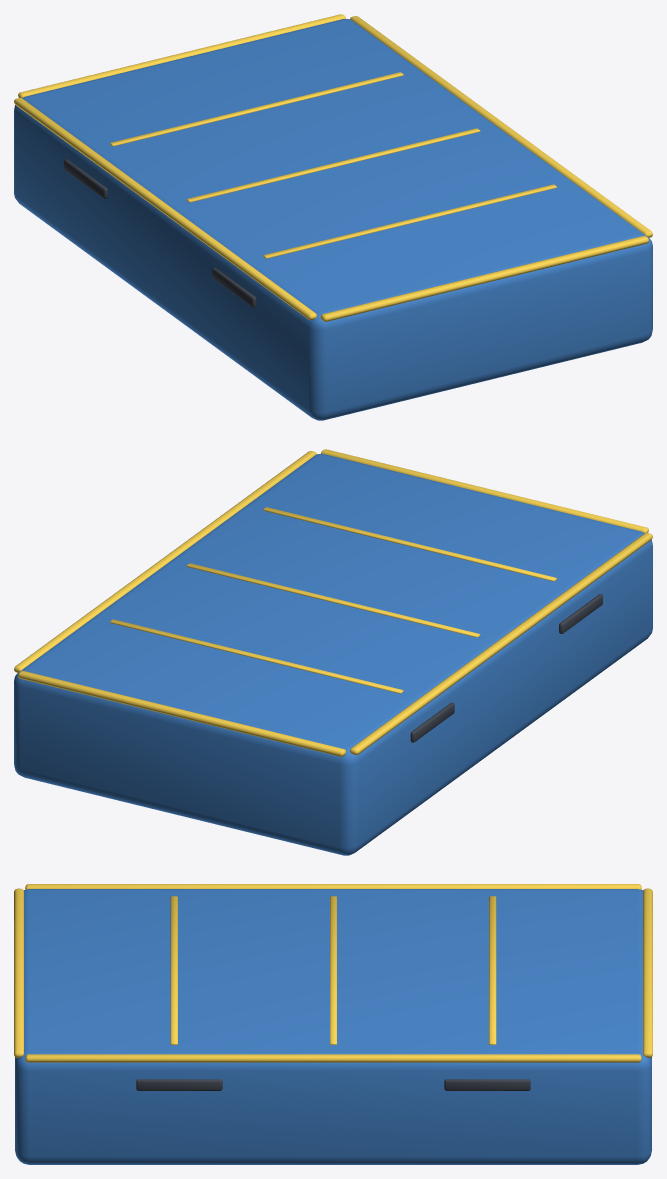
Rendered from slide-landing-mat.glb.
3 views of the same model, one above another, from view 1: azimuth 30°, elevation 25°; view 2: azimuth 150°, elevation 25°; view 3: azimuth 270°, elevation 25° (orthographic). The views are drawn at different scales.
Parts seen in each view (by area): view 1: landing_mat_body, landing_mat_piping, landing_mat_piping.002, landing_mat_piping.001, landing_mat_piping.003, landing_mat_seam, landing_mat_seam.001, landing_mat_seam.002, landing_mat_handle; view 2: landing_mat_body, landing_mat_piping, landing_mat_piping.003, landing_mat_piping.001, landing_mat_piping.002, landing_mat_seam.001, landing_mat_seam.002, landing_mat_seam, landing_mat_handle.001; view 3: landing_mat_body, landing_mat_piping.001, landing_mat_piping, landing_mat_piping.002, landing_mat_piping.003, landing_mat_seam, landing_mat_seam.002, landing_mat_seam.001, landing_mat_handle.002, landing_mat_handle.003.
Part boxes in pixels (bbox=[...]): landing_mat_body: bbox=[14, 19, 652, 420]; landing_mat_piping: bbox=[14, 98, 316, 319]; landing_mat_piping.002: bbox=[320, 236, 648, 321]; landing_mat_piping.001: bbox=[350, 16, 652, 237]; landing_mat_piping.003: bbox=[18, 14, 345, 98]; landing_mat_seam: bbox=[263, 184, 556, 258]; landing_mat_seam.001: bbox=[186, 128, 480, 202]; landing_mat_seam.002: bbox=[110, 72, 403, 146]; landing_mat_handle: bbox=[212, 267, 256, 307]; landing_mat_body: bbox=[14, 454, 652, 855]; landing_mat_piping: bbox=[350, 533, 652, 754]; landing_mat_piping.003: bbox=[18, 671, 346, 756]; landing_mat_piping.001: bbox=[14, 451, 316, 672]; landing_mat_piping.002: bbox=[321, 449, 648, 533]; landing_mat_seam.001: bbox=[186, 563, 480, 637]; landing_mat_seam.002: bbox=[110, 619, 403, 693]; landing_mat_seam: bbox=[263, 507, 556, 581]; landing_mat_handle.001: bbox=[410, 702, 454, 742]; landing_mat_body: bbox=[15, 889, 651, 1164]; landing_mat_piping.001: bbox=[25, 1054, 641, 1062]; landing_mat_piping: bbox=[25, 884, 641, 889]; landing_mat_piping.002: bbox=[14, 888, 23, 1057]; landing_mat_piping.003: bbox=[643, 888, 652, 1057]; landing_mat_seam: bbox=[170, 896, 177, 1044]; landing_mat_seam.002: bbox=[489, 896, 496, 1044]; landing_mat_seam.001: bbox=[330, 896, 336, 1044]; landing_mat_handle.002: bbox=[136, 1079, 222, 1090]; landing_mat_handle.003: bbox=[444, 1079, 530, 1090].
Size of the model in its own units: 2.05 by 0.608 by 3.11.
